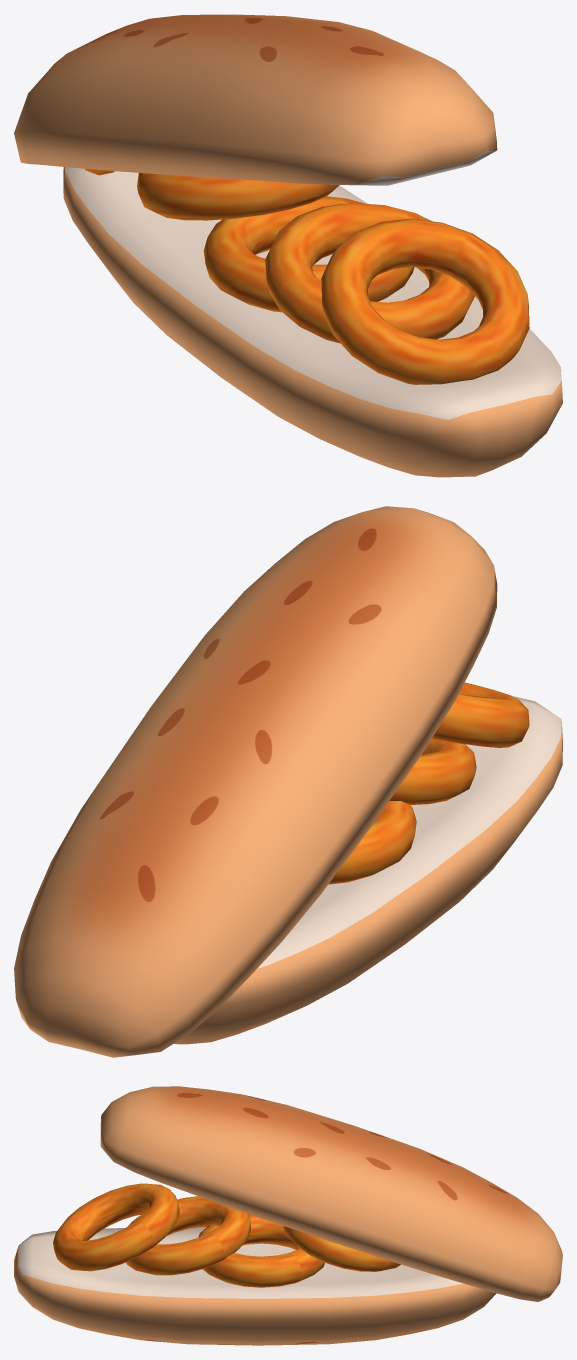
The model's file is Bocata.fbx.
3 views of the same model, one above another, from view 1: azimuth 30°, elevation 25°; view 2: azimuth 150°, elevation 25°; view 3: azimuth 270°, elevation 25° (orthographic). The views are drawn at different scales.
Parts seen in each view (by area): view 1: Pan_arriba, Pan_bajo, Calamares; view 2: Pan_arriba, Pan_bajo, Calamares; view 3: Pan_arriba, Pan_bajo, Calamares.
Part boxes in pixels (x1,y1,x2,y2): Pan_arriba: [14, 14, 497, 185]; Pan_bajo: [63, 167, 562, 477]; Calamares: [84, 168, 529, 384]; Pan_arriba: [14, 506, 497, 1057]; Pan_bajo: [174, 696, 562, 1044]; Calamares: [328, 682, 529, 884]; Pan_arriba: [100, 1086, 562, 1301]; Pan_bajo: [14, 1227, 496, 1345]; Calamares: [53, 1183, 400, 1287].
Size of the model in its own units: 3.41 by 5.26 by 10.73.
Materials: 2 (2 with a texture image).
